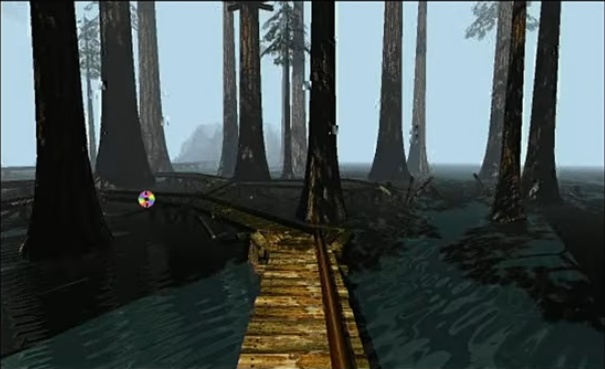Waiting: (135, 186, 158, 210)
